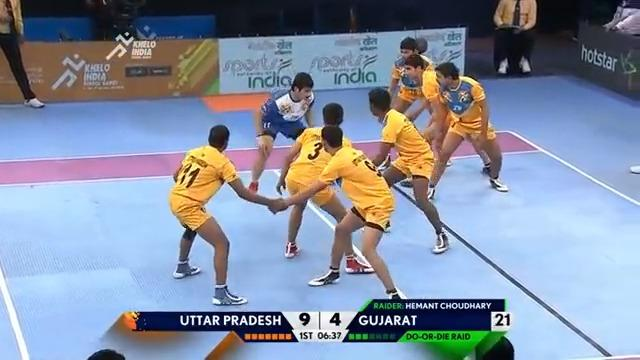Player: (269, 124, 407, 300), (168, 123, 286, 305), (365, 86, 450, 253), (425, 61, 508, 200), (389, 53, 450, 192), (0, 0, 45, 108), (386, 35, 430, 121)
Raider: (247, 71, 316, 194)
referee: (491, 0, 537, 76), (91, 0, 147, 41), (601, 0, 639, 36)
